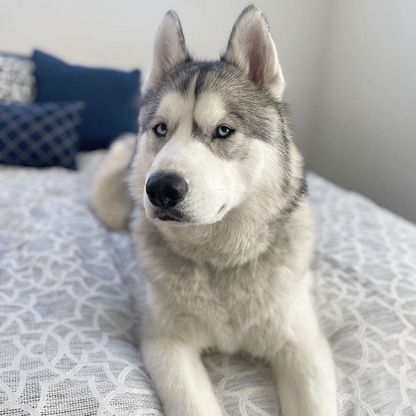husky: (82, 1, 351, 416)
